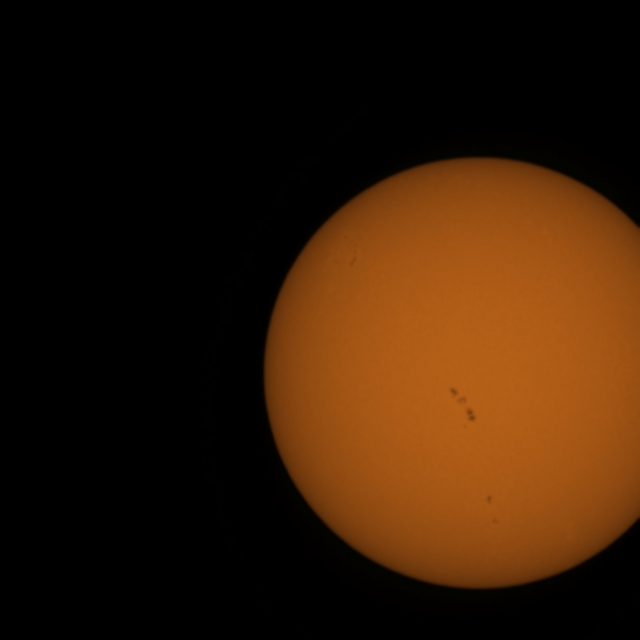sunspot: (447, 385, 477, 427), (489, 514, 500, 526), (484, 494, 494, 506)
